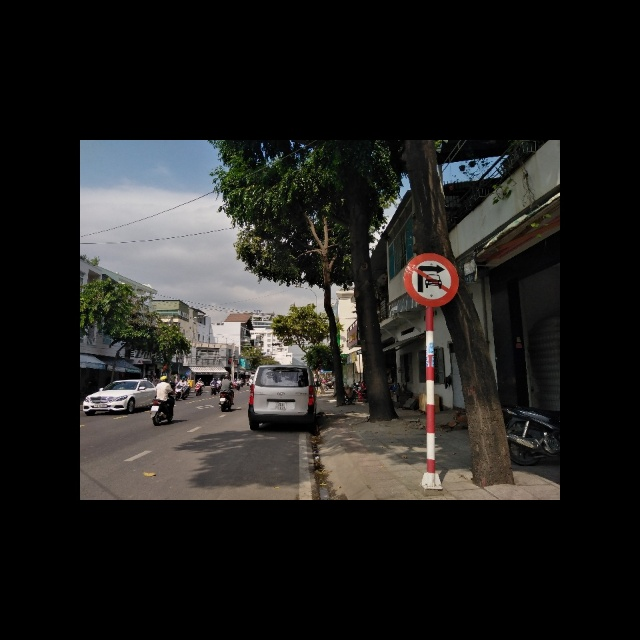Cấm xe ô tô rẽ trái: (402, 252, 460, 309)
